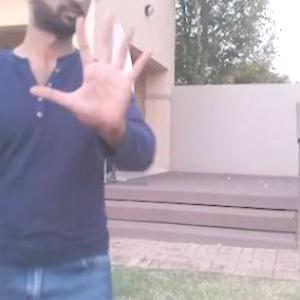follow_hand: (28, 5, 158, 134)
